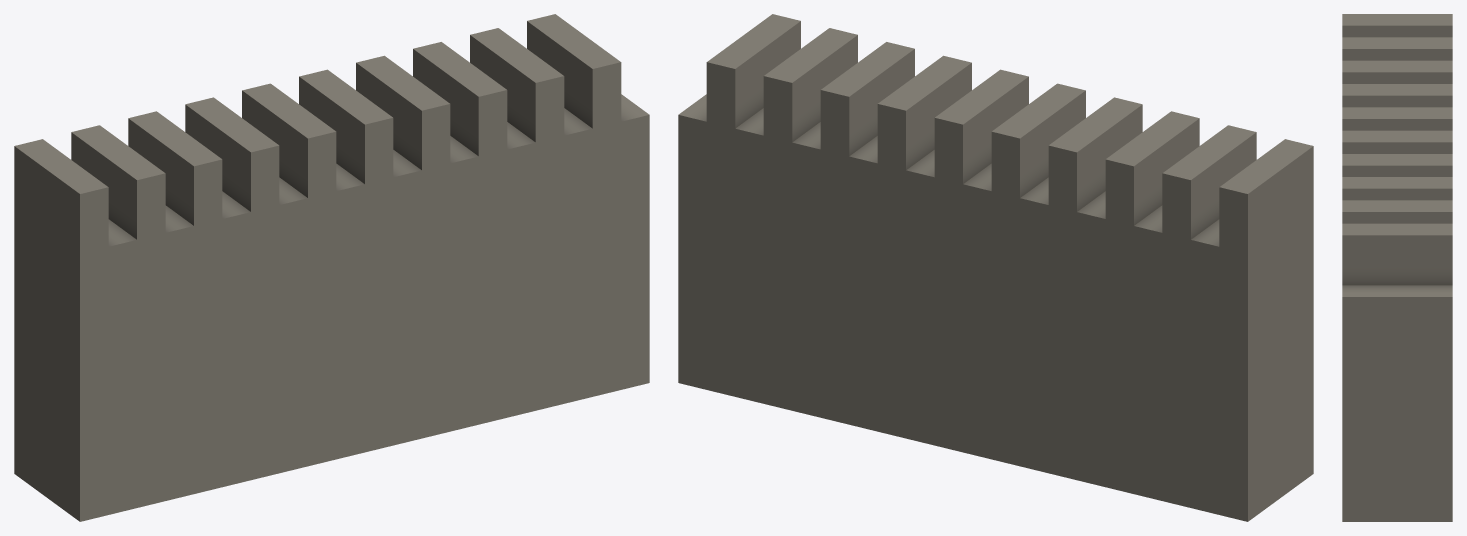
The model's file is c_wall2.glb.
The picture shows the model from 3 angles, left to right: view 1: azimuth 30°, elevation 25°; view 2: azimuth 150°, elevation 25°; view 3: azimuth 270°, elevation 25°; orthographic projection. The views are drawn at different scales.
Visible parts, largest first — view 1: c_wall2_body; view 2: c_wall2_body; view 3: c_wall2_body.
Part boxes in pixels (x1,y1,x2,y2): c_wall2_body: [14, 14, 649, 521]; c_wall2_body: [678, 14, 1313, 521]; c_wall2_body: [1342, 14, 1452, 521].
Bounding box in the file's own units: 1.25 × 0.6875 × 0.25.
Materials: 1 (1 with a texture image).
